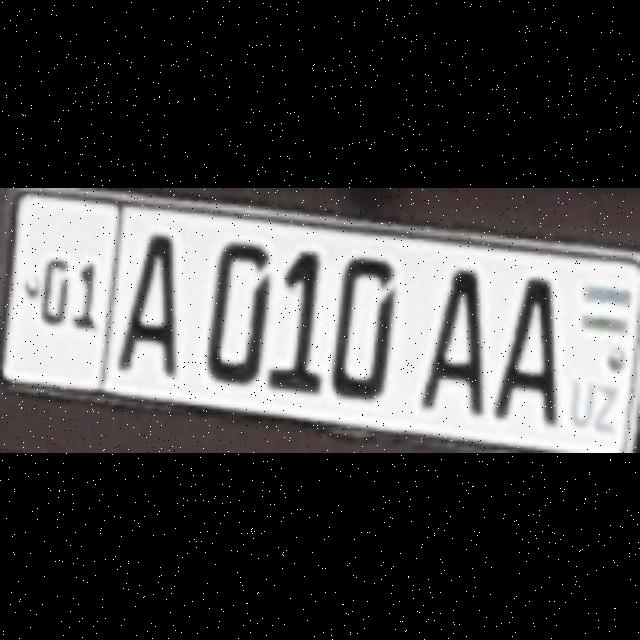0: (204, 238, 266, 379), (333, 254, 391, 396), (38, 254, 64, 318)
1: (269, 248, 317, 388), (71, 260, 93, 322)
A: (416, 266, 484, 408), (492, 274, 554, 421), (118, 229, 176, 373)
